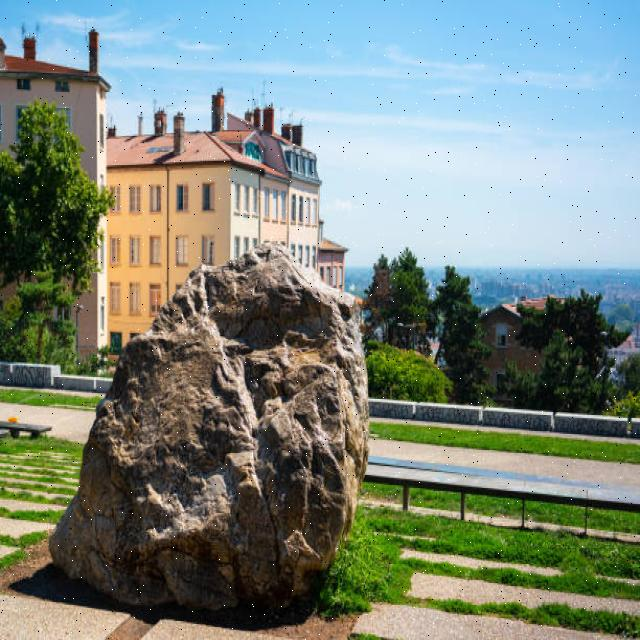Metamorphic: (76, 247, 374, 617)
